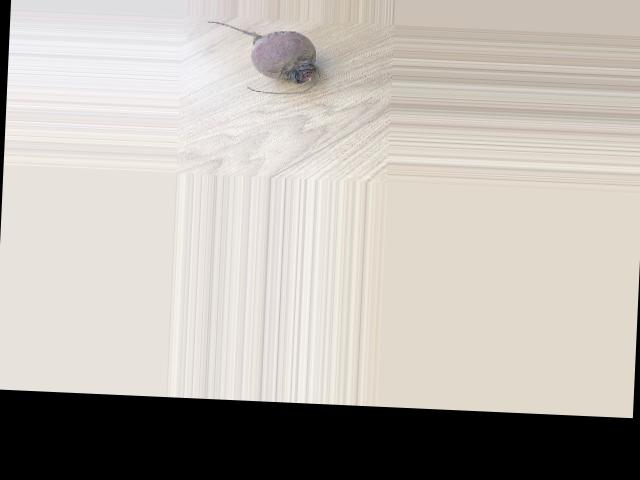beet: (203, 20, 320, 95)
